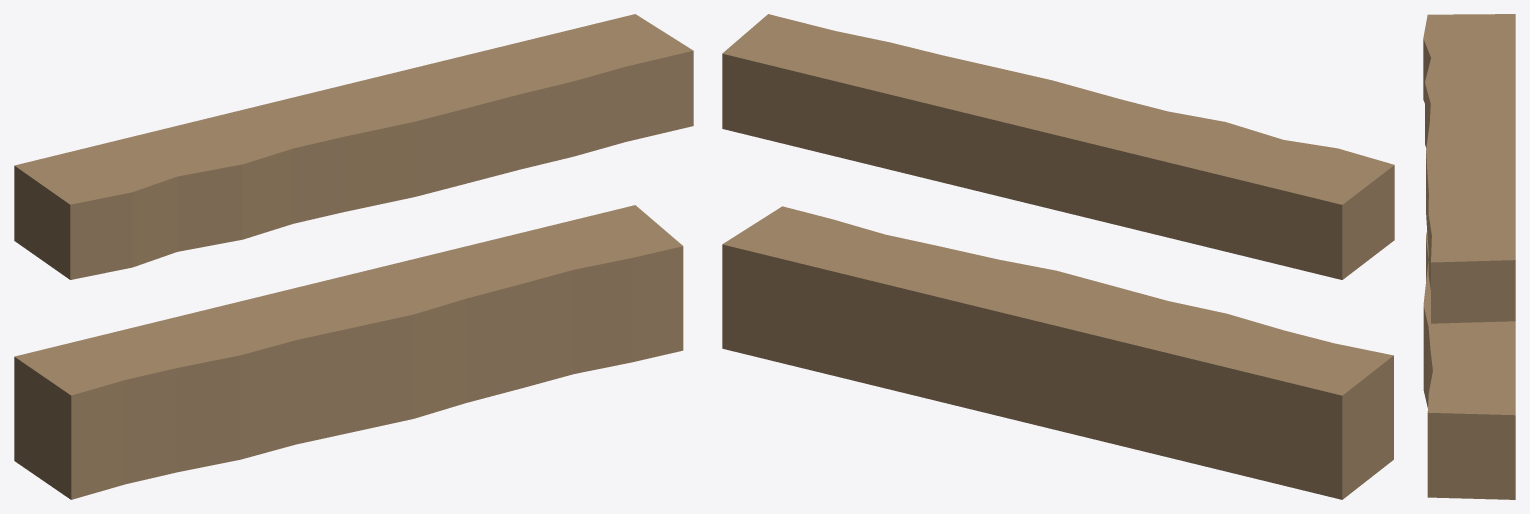
Rendered from HokageBridge_HokageRock.fbx.
3 renders of one model, left to right at view 1: azimuth 30°, elevation 25°; view 2: azimuth 150°, elevation 25°; view 3: azimuth 270°, elevation 25°, orthographic. The views are drawn at different scales.
Visible parts, largest first — view 1: Bridge0.001; view 2: Bridge0.001; view 3: Bridge0.001.
Part boxes in pixels (x1,y1,x2,y2): Bridge0.001: (14,14,693,499); Bridge0.001: (722,14,1394,499); Bridge0.001: (1423,14,1515,499).
Size of the model in its own units: 8886 by 4000 by 1397.
